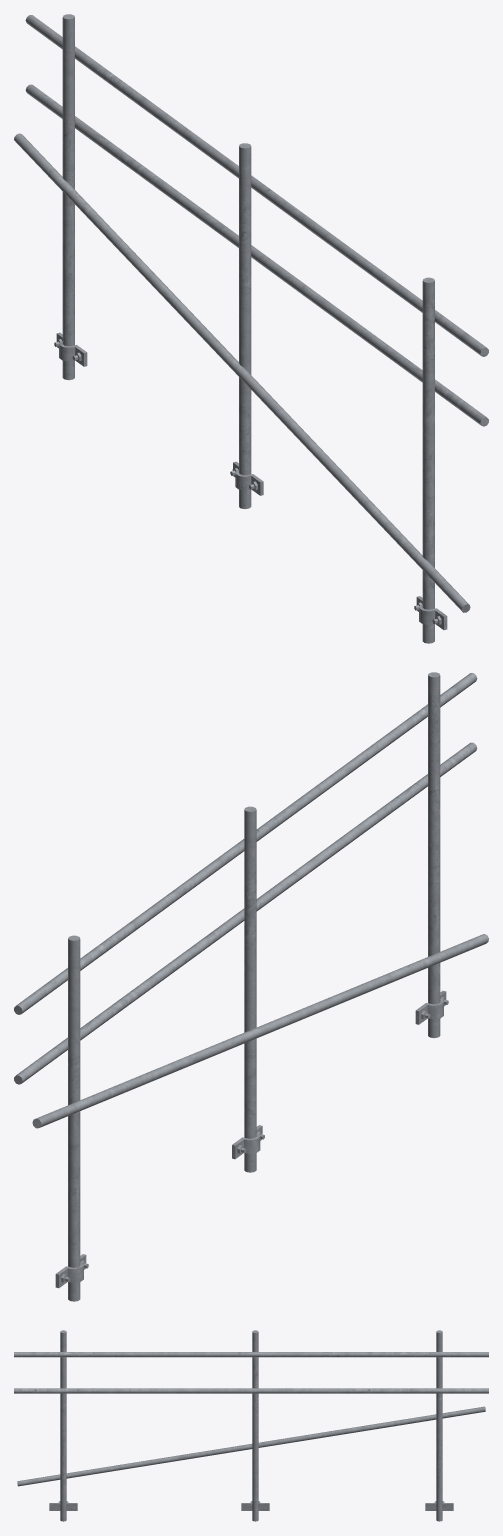
File: Kit_IronRailings.fbx
3 renders of one model, top to bottom at view 1: azimuth 30°, elevation 25°; view 2: azimuth 150°, elevation 25°; view 3: azimuth 270°, elevation 25°, orthographic. The views are drawn at different scales.
Parts seen in each view (by area): view 1: Kit_IronRailings; view 2: Kit_IronRailings; view 3: Kit_IronRailings.
Boxes of the visible parts, x1=… form: Kit_IronRailings: x1=14, y1=14, x2=488, y2=643; Kit_IronRailings: x1=14, y1=672, x2=488, y2=1301; Kit_IronRailings: x1=14, y1=1330, x2=488, y2=1521.
Bounding box in the file's own units: 10.06 × 147 × 335.
